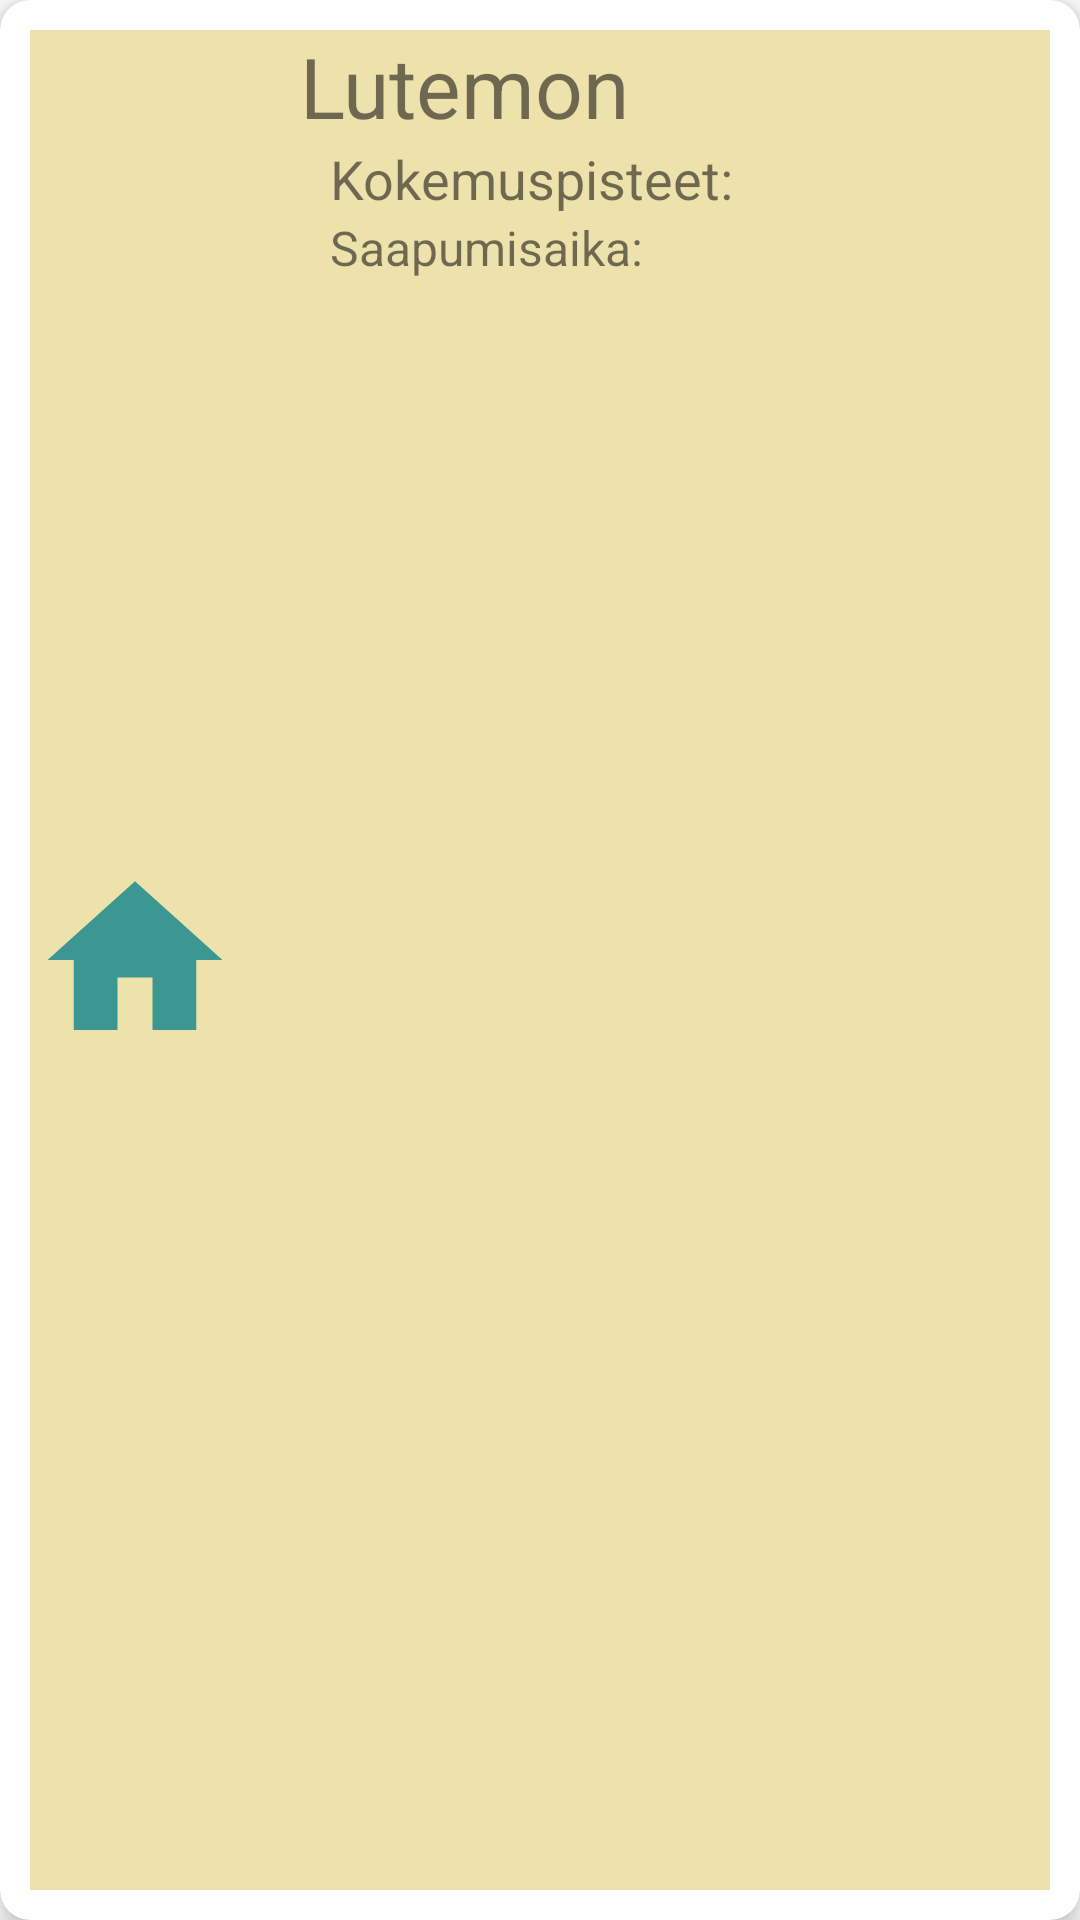

Where icons sit on this 1080px×1920px app screen, as (x1, y1, x2, y2):
home: (48, 881, 222, 1030)
